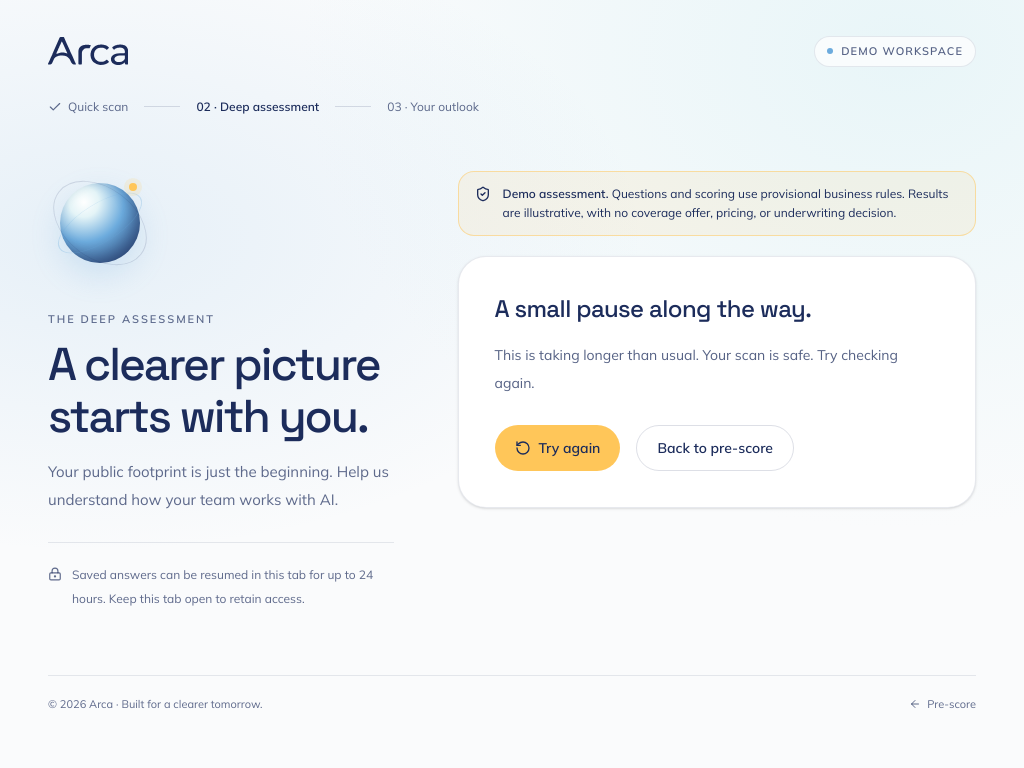
assessment planning › times out with a retry path, then resumes the same assessment
This screenshot has width=1024, height=768.
Expected: the message shows "taking longer than usual", [495,346,898,392]
Step 1. Click the button "Try again" → point(558, 448), box [495,424,620,470]
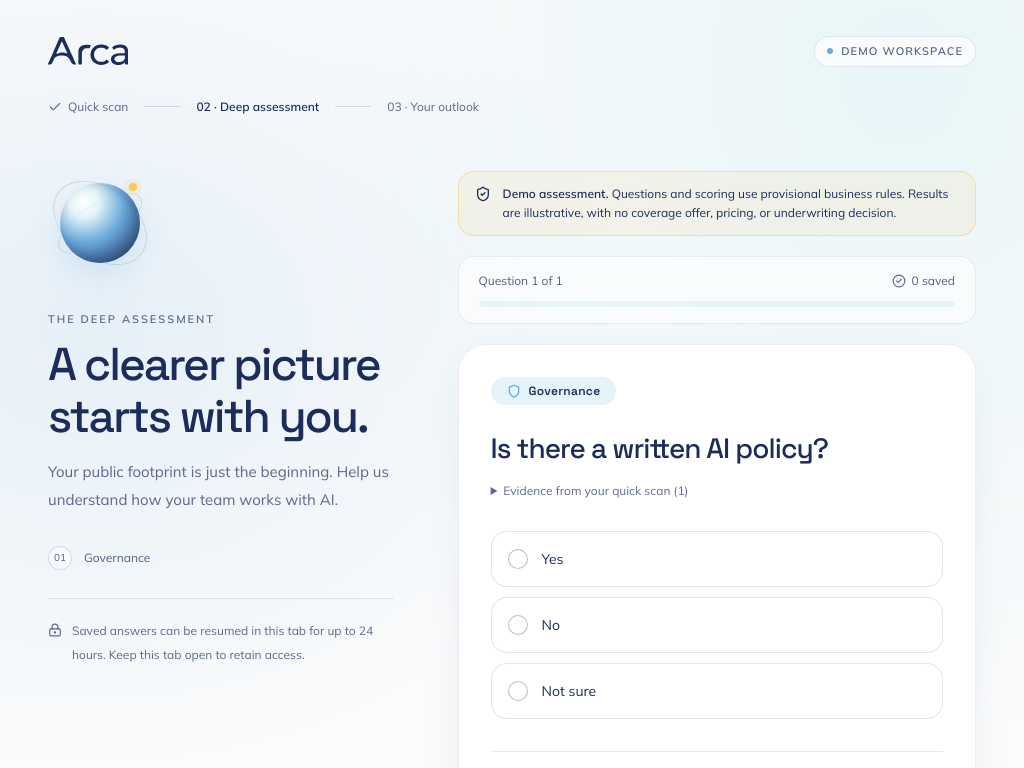
Result: the heading "Is there a written AI policy?" is shown at [491,430,828,466]
